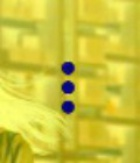ImgButton: (1, 1, 139, 162)
